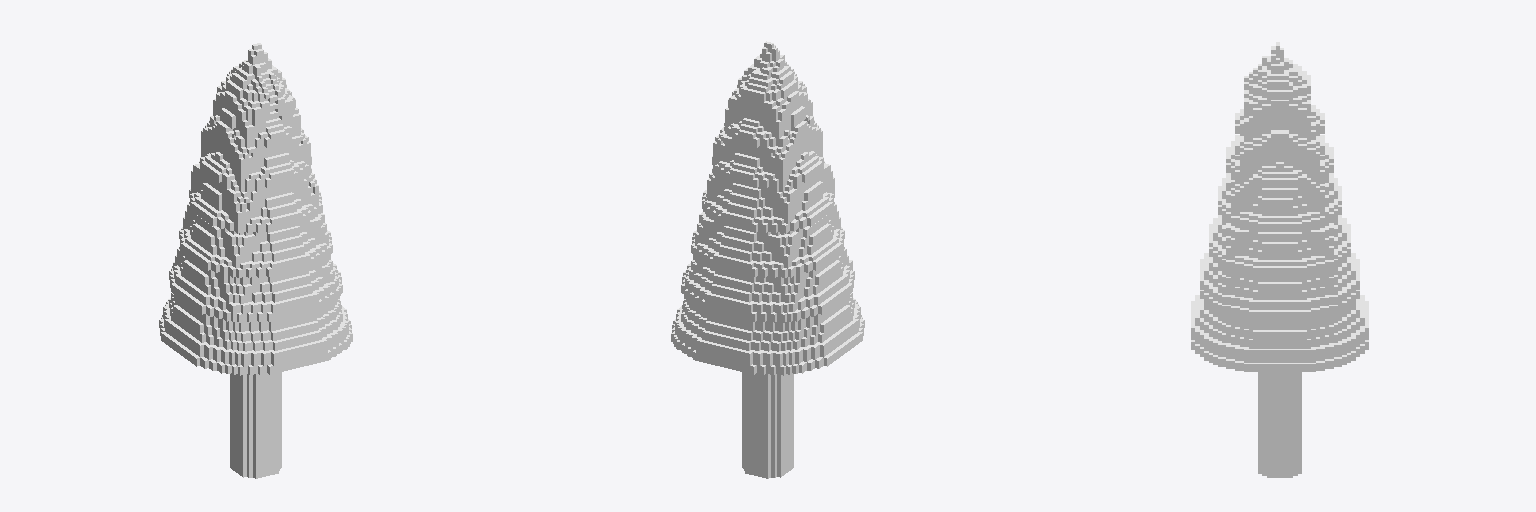
The model's file is TreePine.obj.
The picture shows the model from 3 angles: view 1: azimuth 30°, elevation 25°; view 2: azimuth 150°, elevation 25°; view 3: azimuth 270°, elevation 25°; orthographic projection.
Parts seen in each view (by area): view 1: object 1; view 2: object 1; view 3: object 1.
Part boxes in pixels (x1,y1,x2,y2): object 1: (159, 43, 352, 478); object 1: (671, 41, 864, 478); object 1: (1191, 42, 1368, 477).
Size of the model in its own units: 4 by 10.5 by 4.